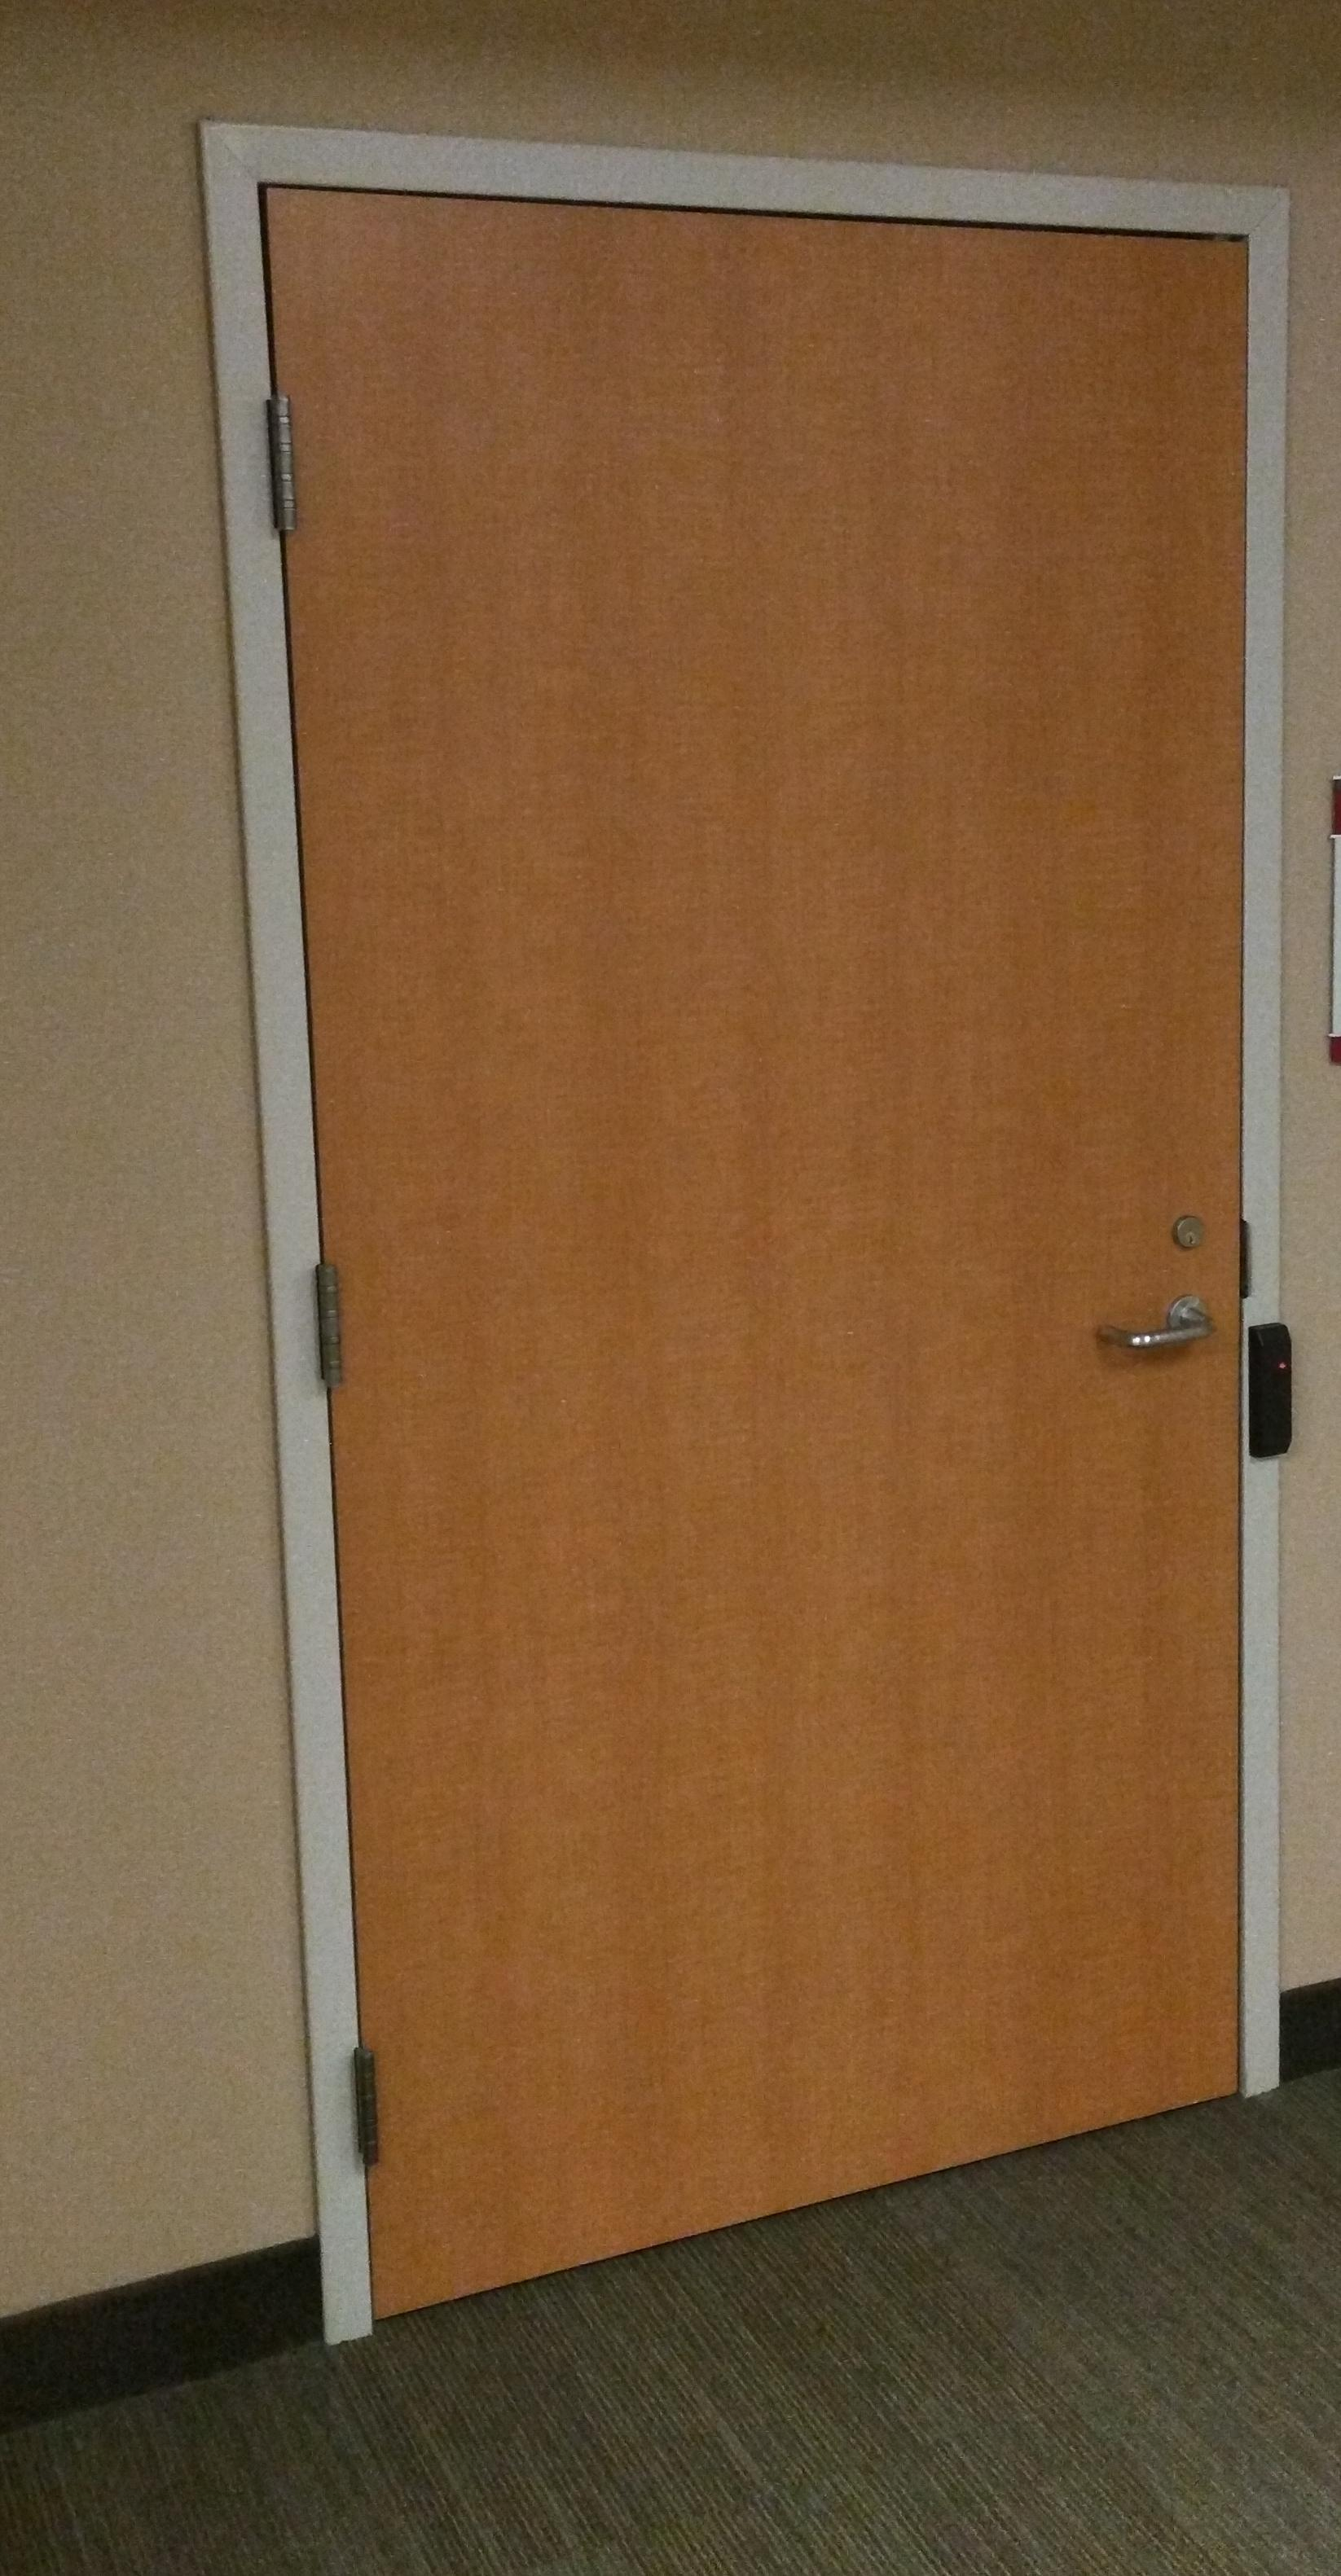door: (199, 123, 1285, 2346)
